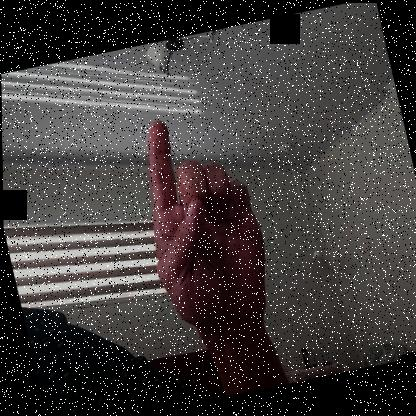D: (123, 100, 279, 338)
